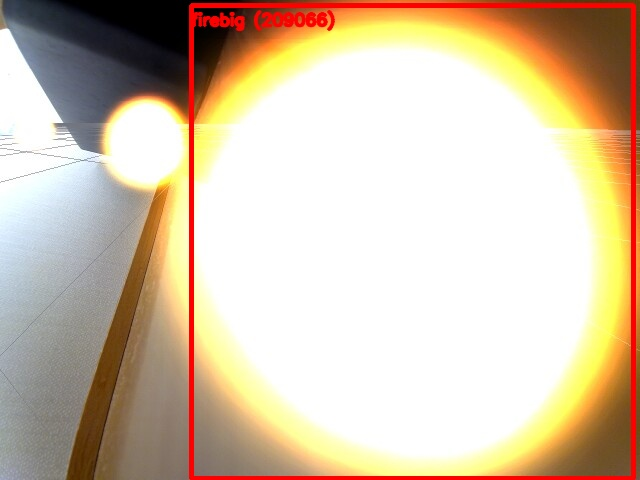firebig: (191, 5, 633, 478)
